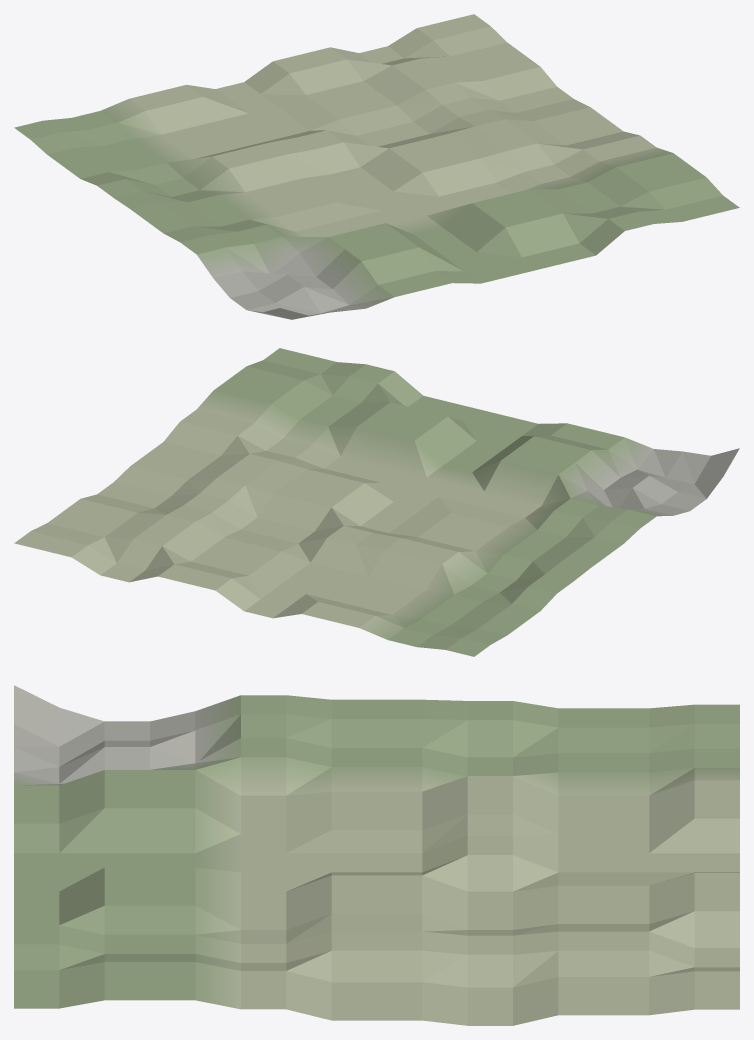
3 renders of one model, top to bottom at view 1: azimuth 30°, elevation 25°; view 2: azimuth 150°, elevation 25°; view 3: azimuth 270°, elevation 25°, orthographic. The views are drawn at different scales.
Size of the model in its own units: 32 by 2.12 by 32.
